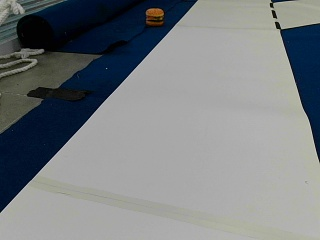burger: (144, 6, 165, 26)
